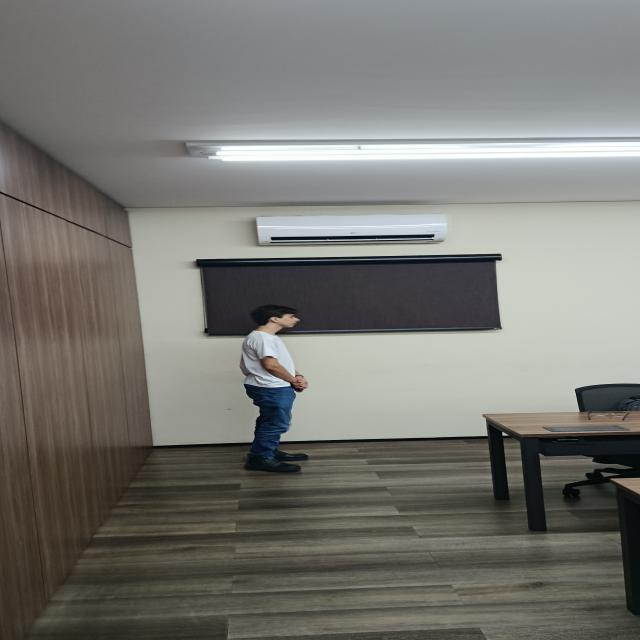sem_oculos: (270, 314, 298, 320)
